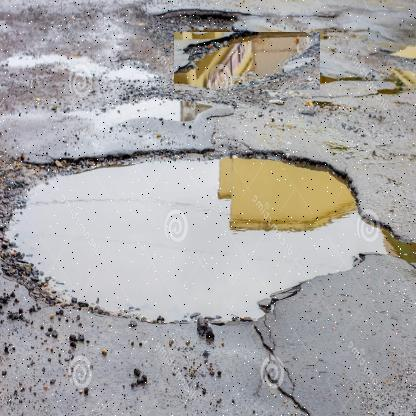pothole_water: (0, 132, 398, 350), (173, 32, 320, 91)
